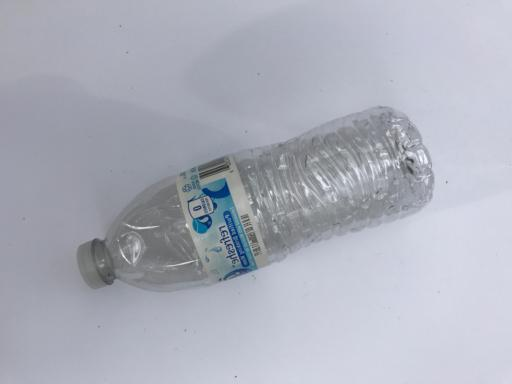plastic: (42, 76, 452, 336)
